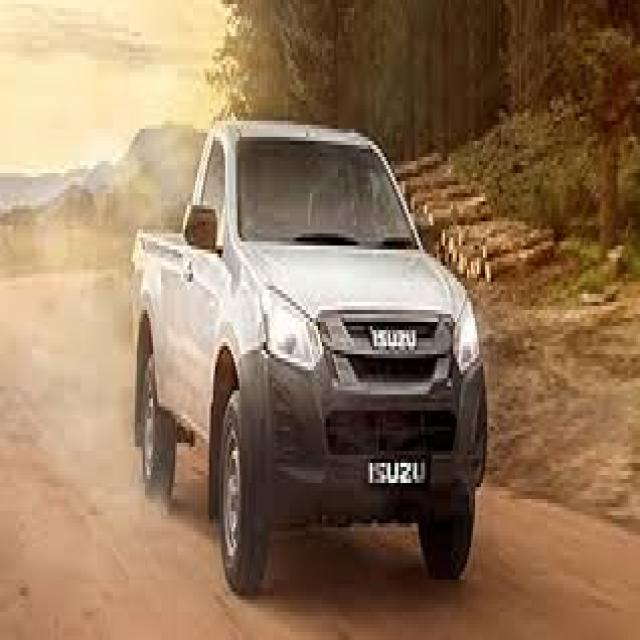Pickup Trucks: (129, 121, 487, 604)
